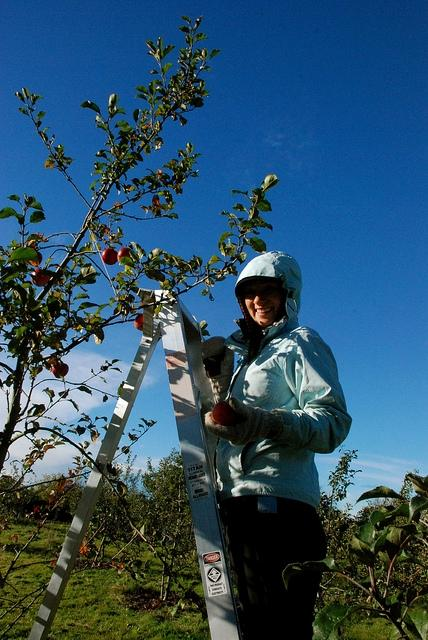apple: (212, 401, 238, 426), (31, 268, 50, 286), (52, 362, 69, 378), (102, 248, 118, 265), (118, 248, 132, 262), (134, 313, 143, 331)
